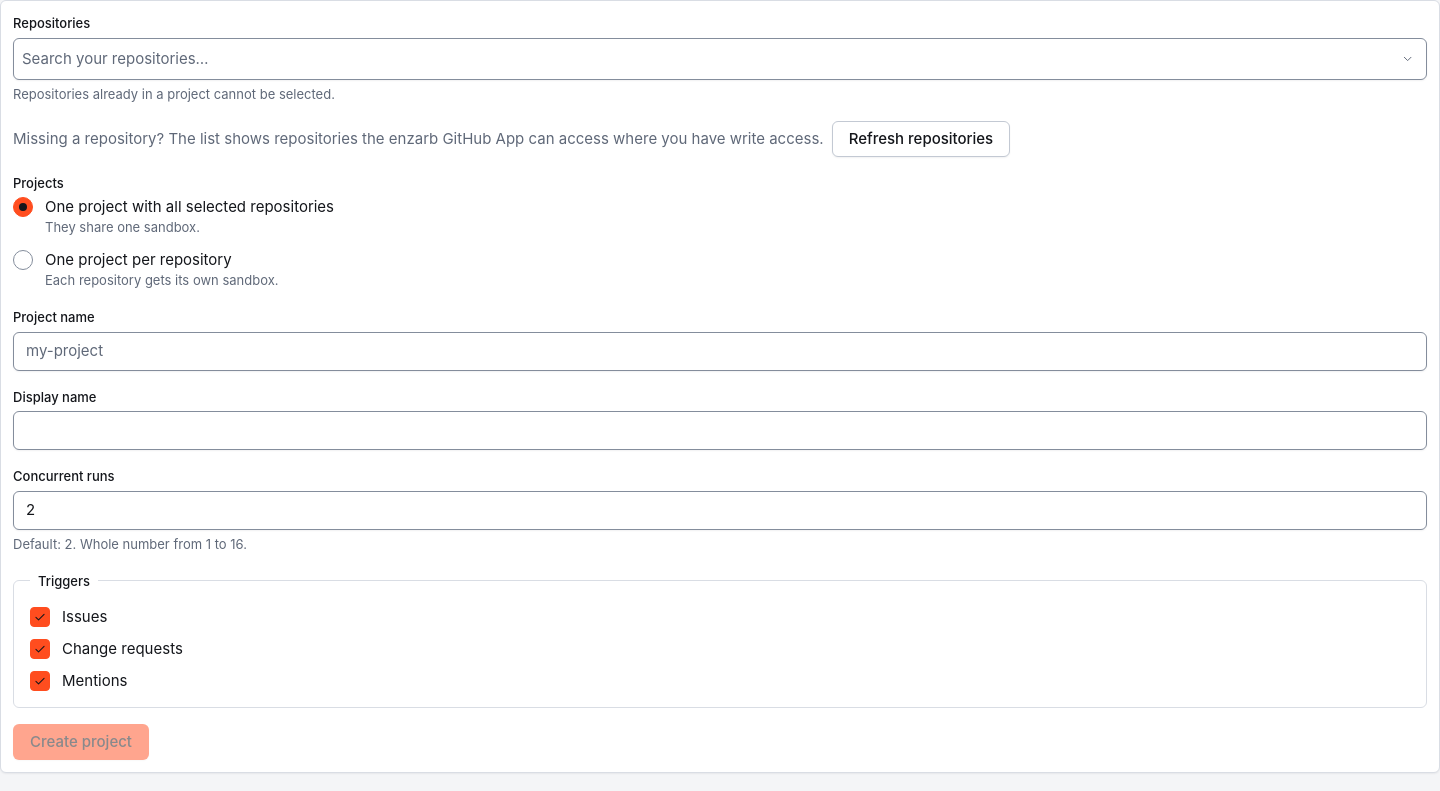
it: NewProjectForm › shows the server’s refusal
The width and height of the screenshot is (1440, 791).
Click the dropdown labelled "Repositories".
click(707, 59)  # box 22,43 -> 1393,75
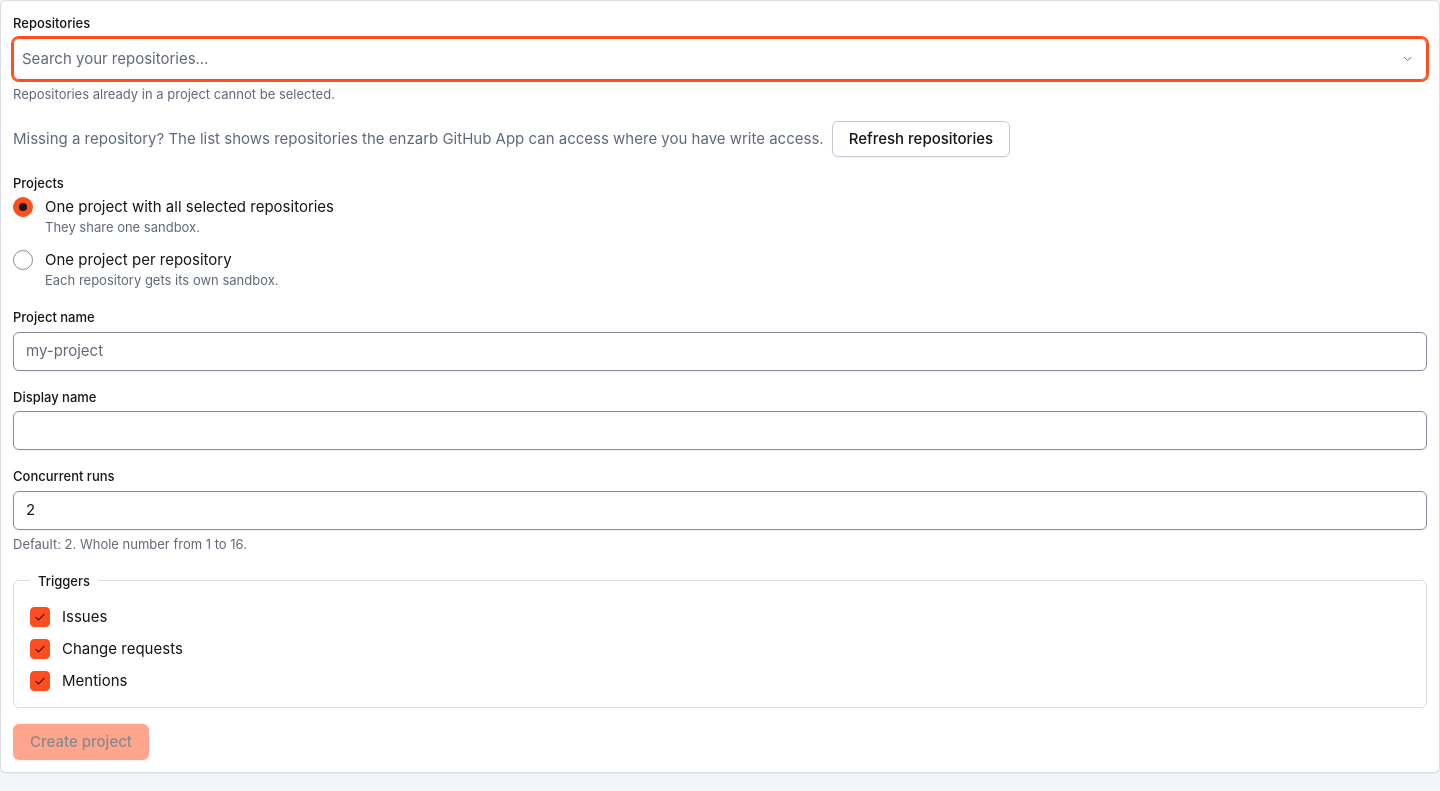
Press Arrowdown
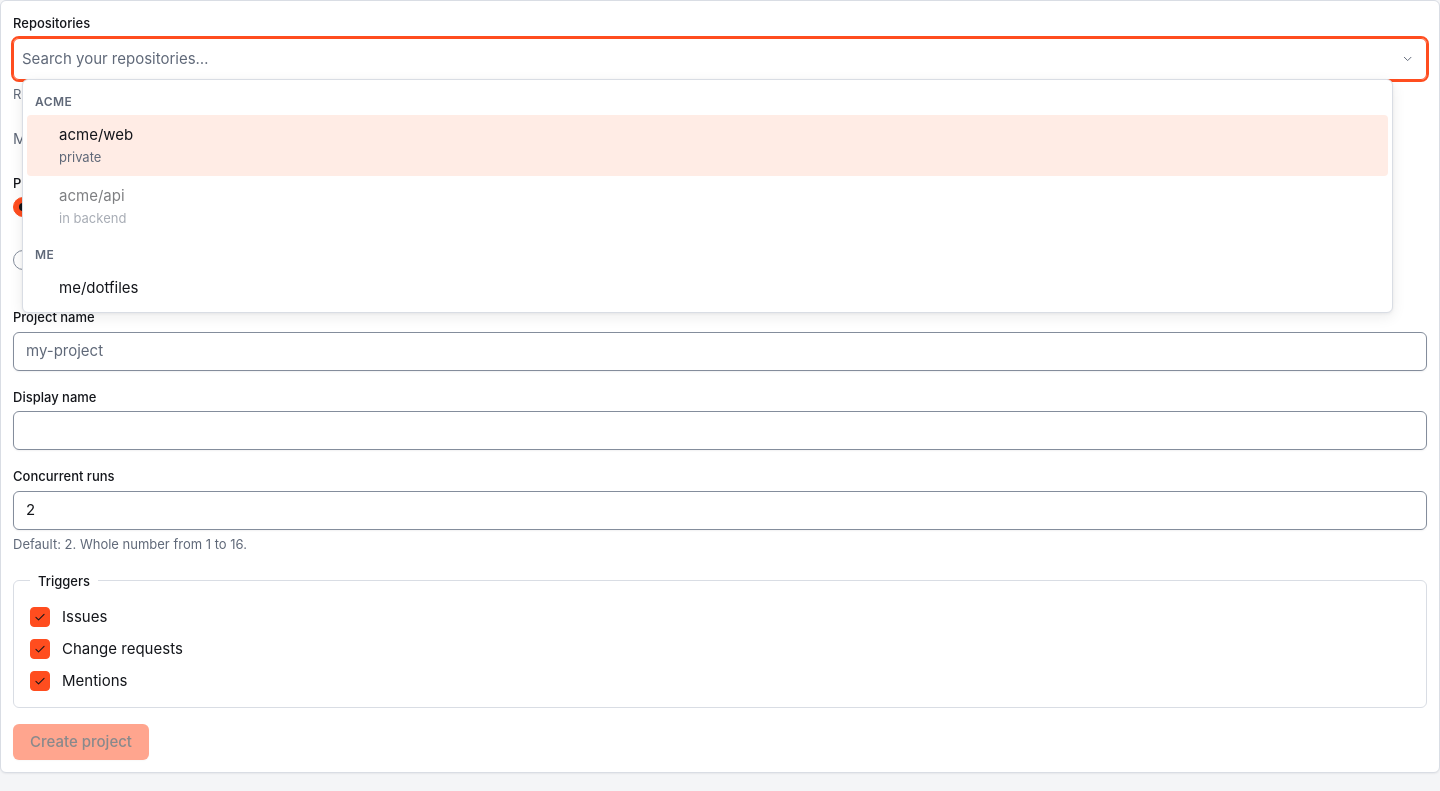
Click the option "acme/web private".
click(96, 135)  # box 27,115 -> 1388,176
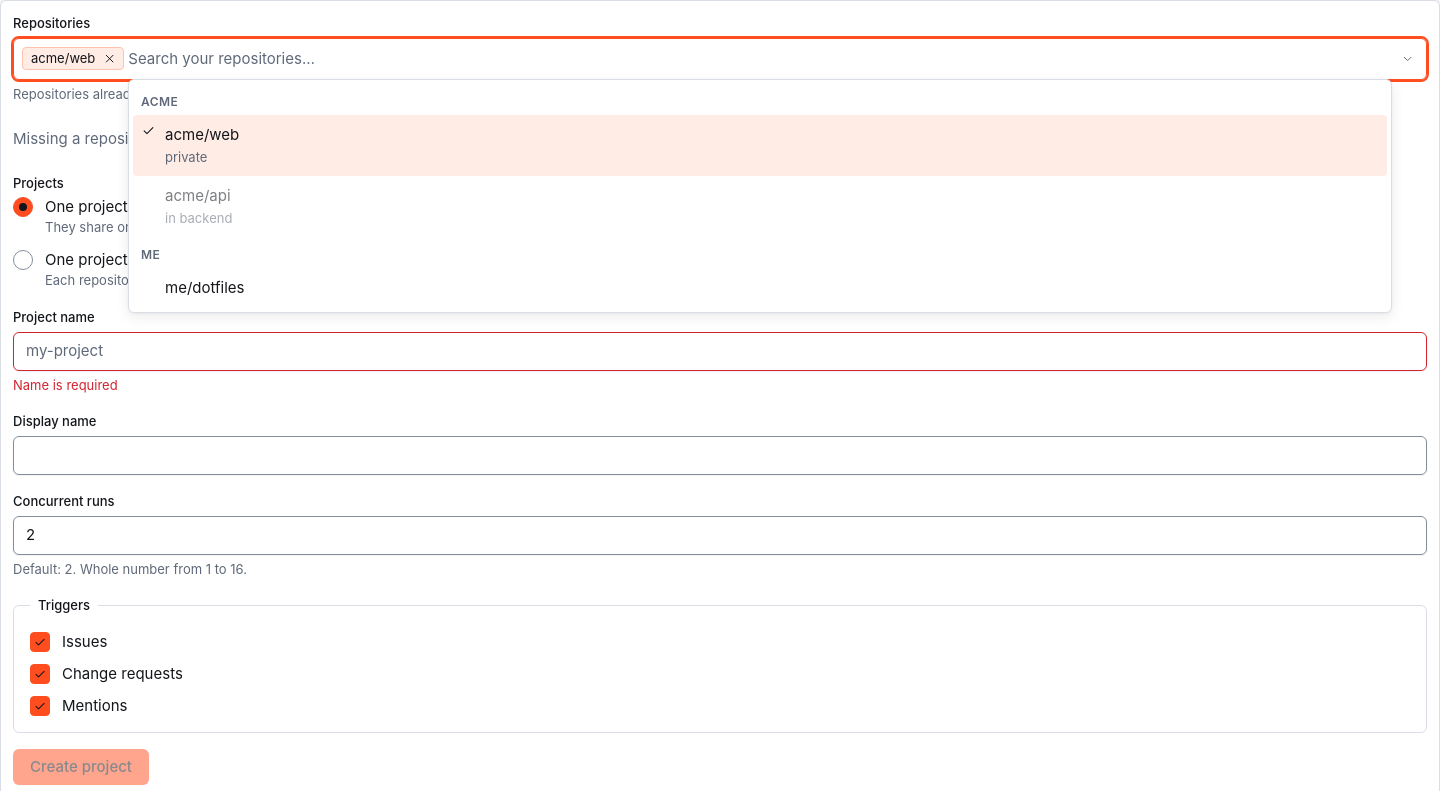
Press Escape
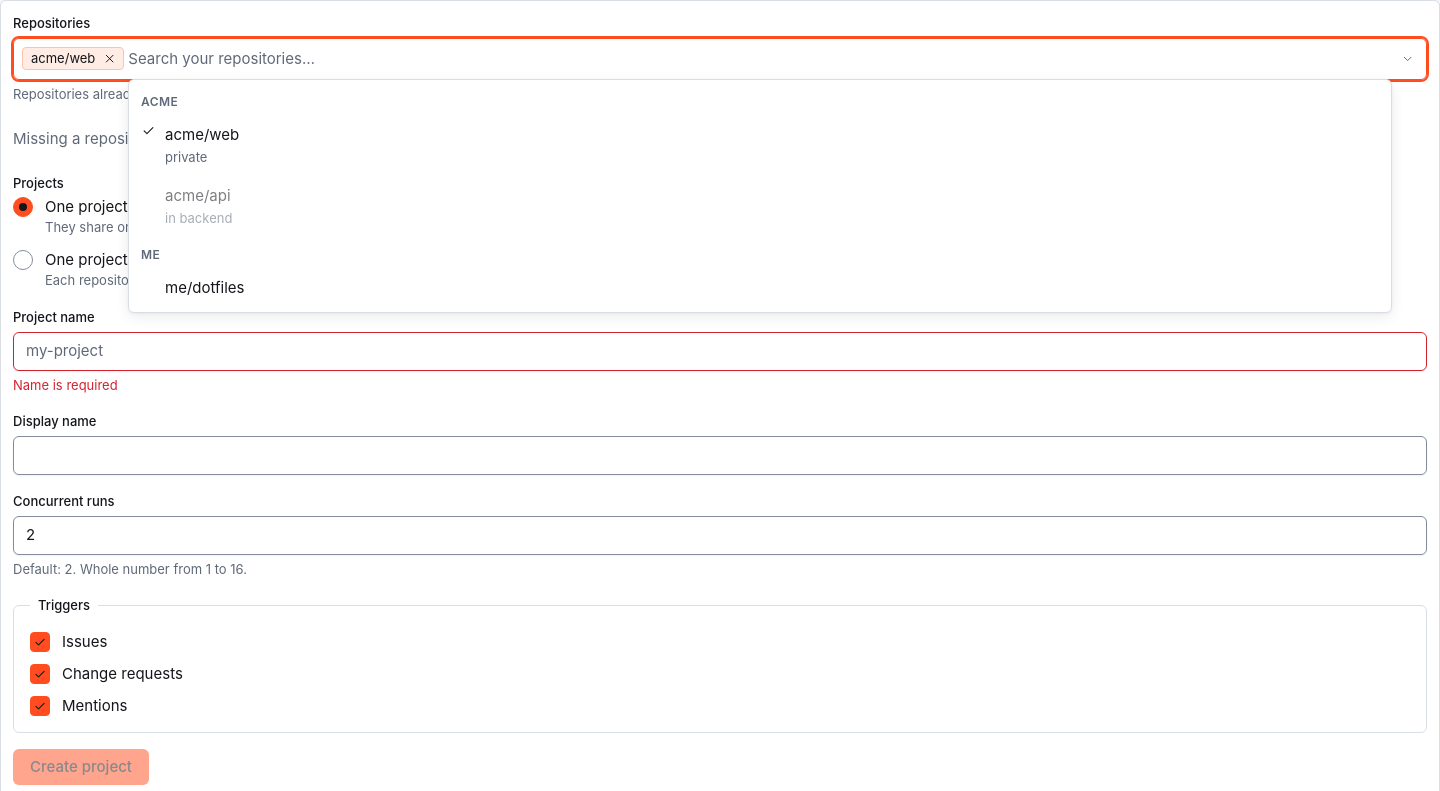
Type "x" into the field labelled "Project name".
click(720, 351); type("x")  # box 13,332 -> 1427,371
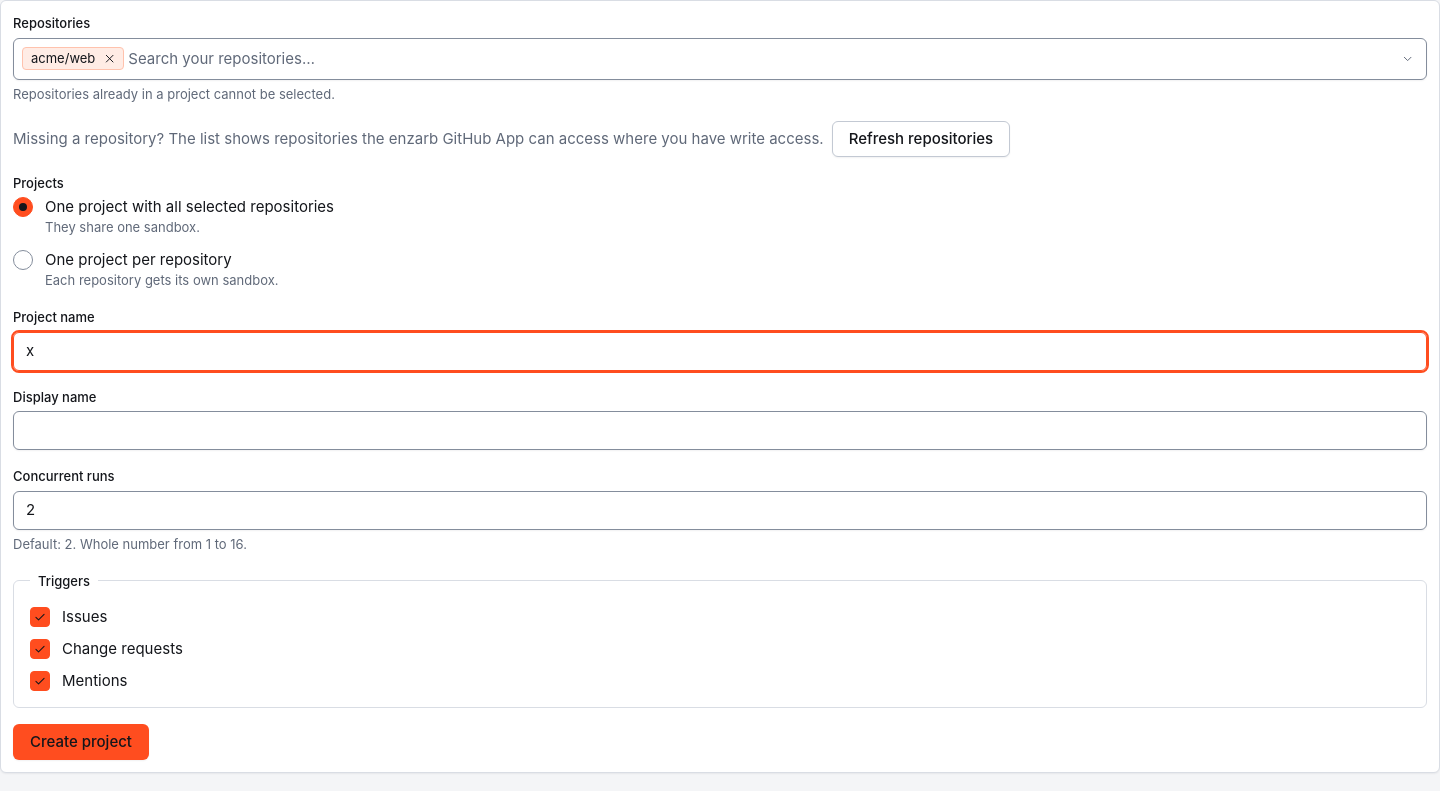
Click the button "Create project".
click(81, 742)  # box 13,724 -> 149,760
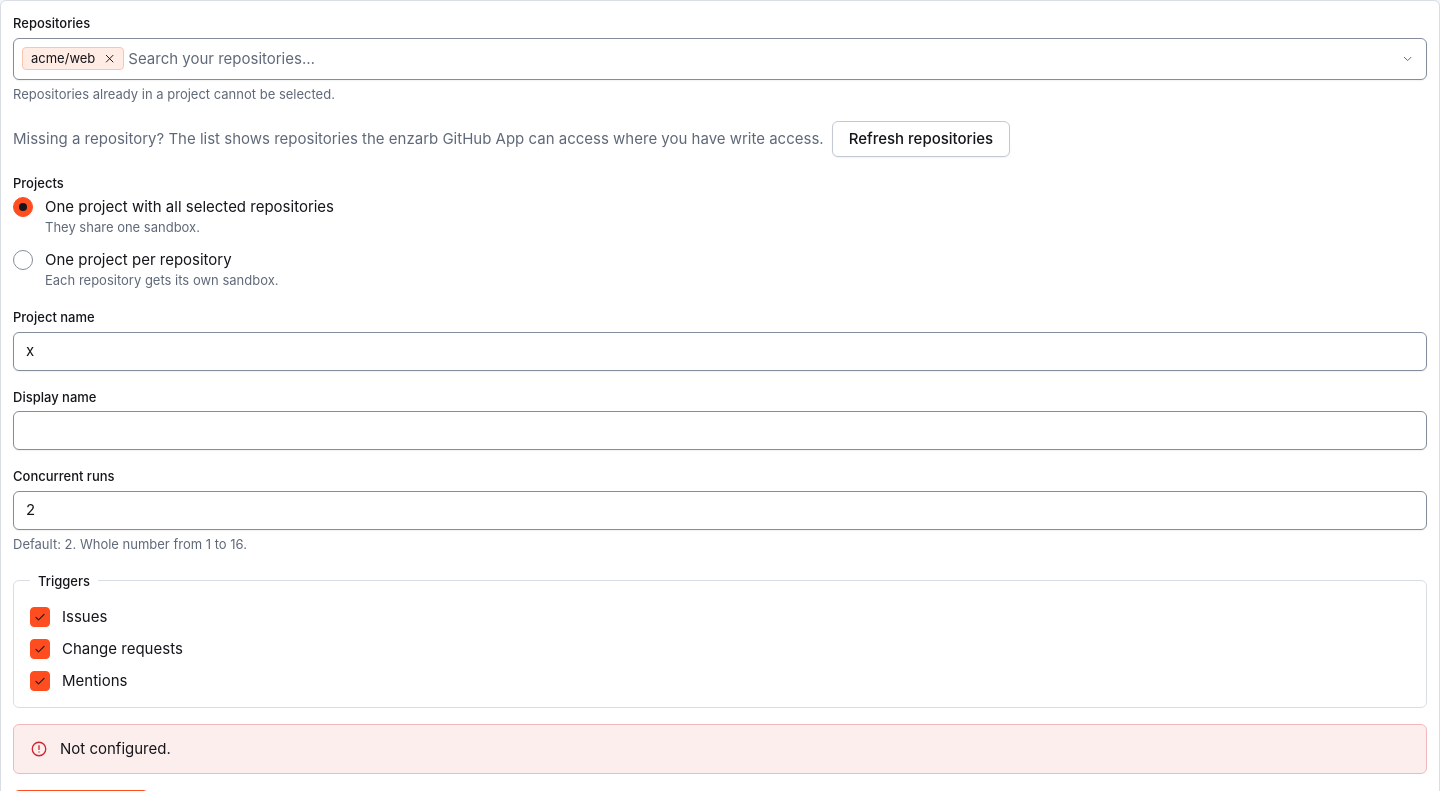
Expected: the message reads "Not configured.", 60,739 -> 171,758
